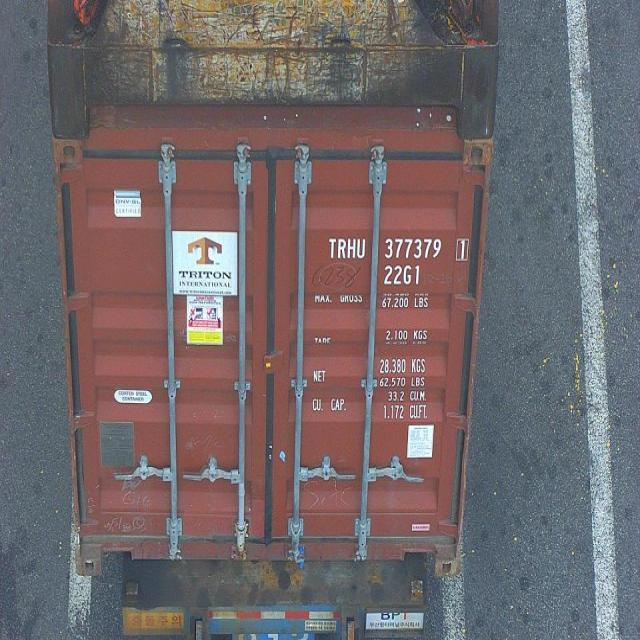ISO: (385, 257, 425, 289)
container_number: (328, 231, 472, 266)
